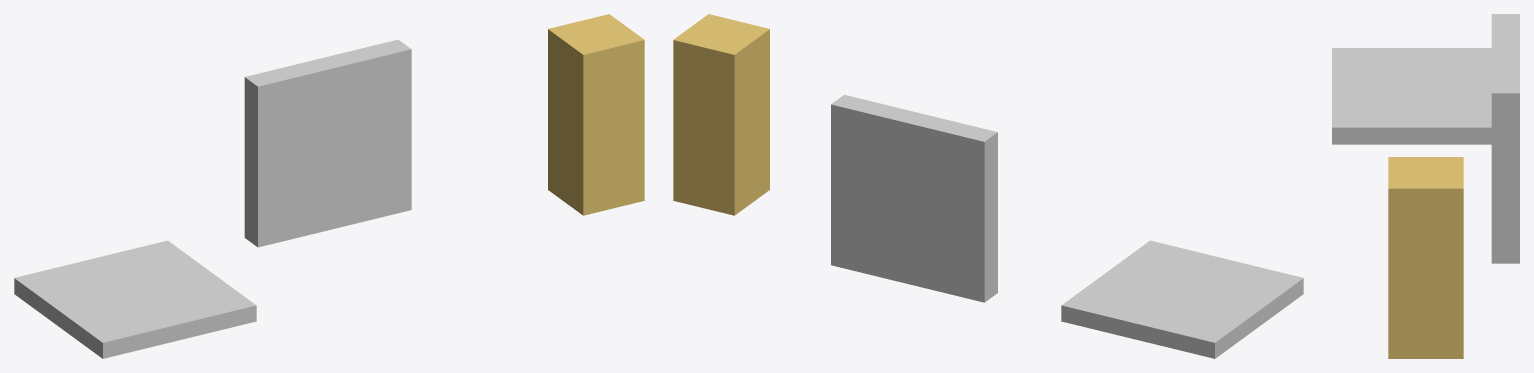
The model's file is editor_kit.glb.
The picture shows the model from 3 angles, left to right: view 1: azimuth 30°, elevation 25°; view 2: azimuth 150°, elevation 25°; view 3: azimuth 270°, elevation 25°; orthographic projection. The views are drawn at different scales.
Parts seen in each view (by area): view 1: wall, pillar, floor; view 2: wall, pillar, floor; view 3: floor, pillar, wall.
Boxes of the visible parts, x1=… form: wall: x1=244, y1=39, x2=411, y2=247; pillar: x1=548, y1=14, x2=644, y2=215; floor: x1=14, y1=240, x2=256, y2=358; wall: x1=831, y1=94, x2=997, y2=302; pillar: x1=673, y1=14, x2=769, y2=215; floor: x1=1061, y1=240, x2=1303, y2=358; floor: x1=1332, y1=48, x2=1491, y2=144; pillar: x1=1388, y1=157, x2=1463, y2=358; wall: x1=1491, y1=14, x2=1519, y2=263.
Size of the model in its own units: 3.7 by 1 by 1.
